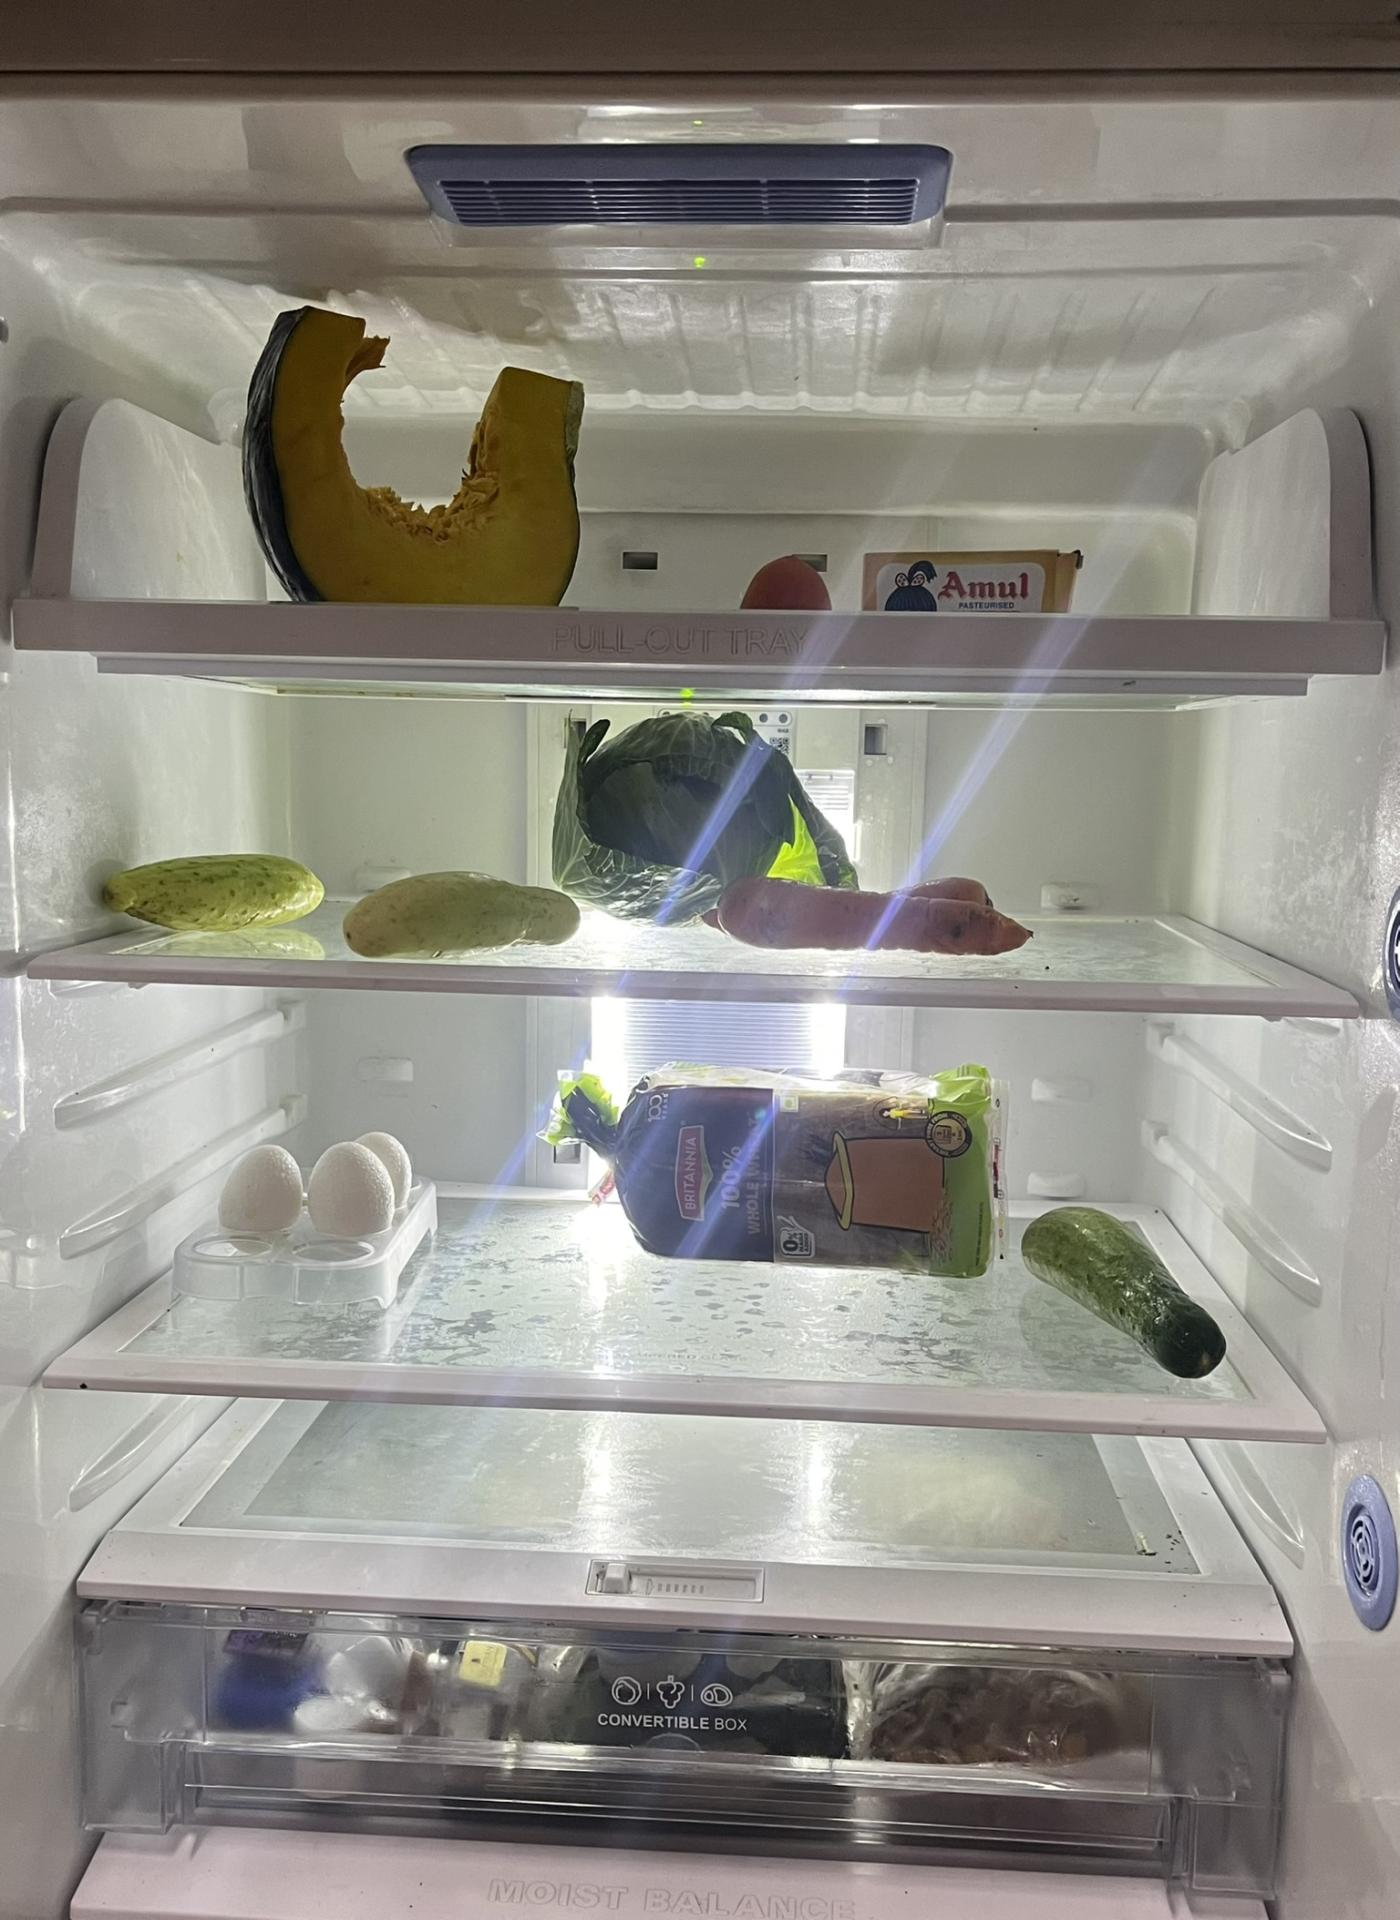bread: (567, 1055, 1012, 1273)
butter: (865, 540, 1088, 614)
cabbage: (562, 719, 845, 932)
carrots: (717, 859, 1035, 953)
cucumber: (1026, 1199, 1236, 1383), (338, 869, 586, 957), (101, 847, 335, 927)
egg: (216, 1133, 434, 1269)
pumpkin: (243, 288, 595, 605)
tomato: (734, 549, 833, 613)
